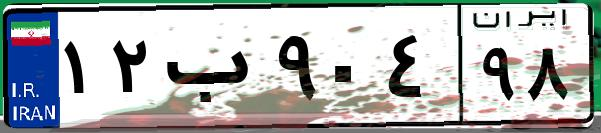0: (330, 28, 385, 110)
1: (57, 26, 110, 100)
2: (110, 28, 158, 98)
4: (385, 28, 445, 110)
8: (525, 38, 570, 115)
9: (270, 28, 330, 110), (475, 38, 525, 113)
ب: (158, 20, 270, 120)
